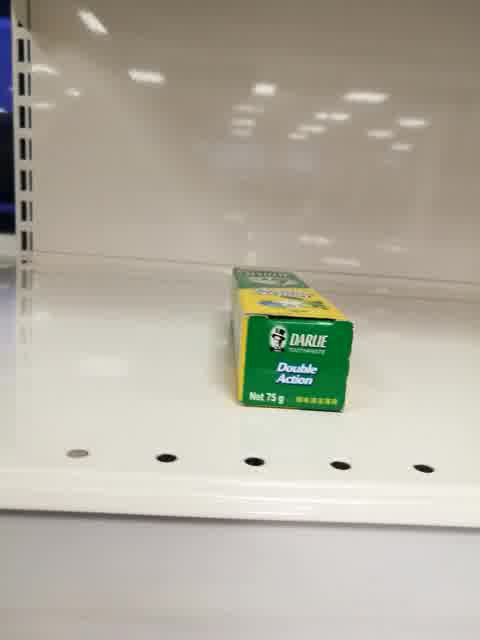toothpaste: (225, 265, 353, 413)
